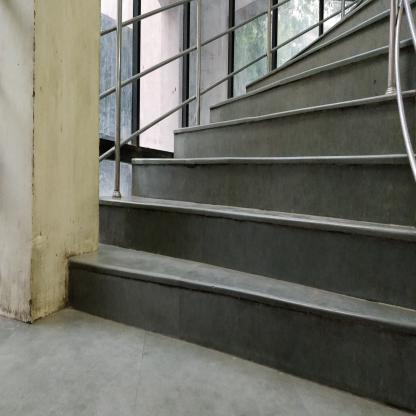stairs: (174, 140, 384, 412)
